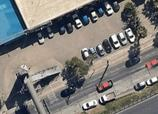parkingspot: (34, 0, 122, 47), (79, 27, 139, 65)
